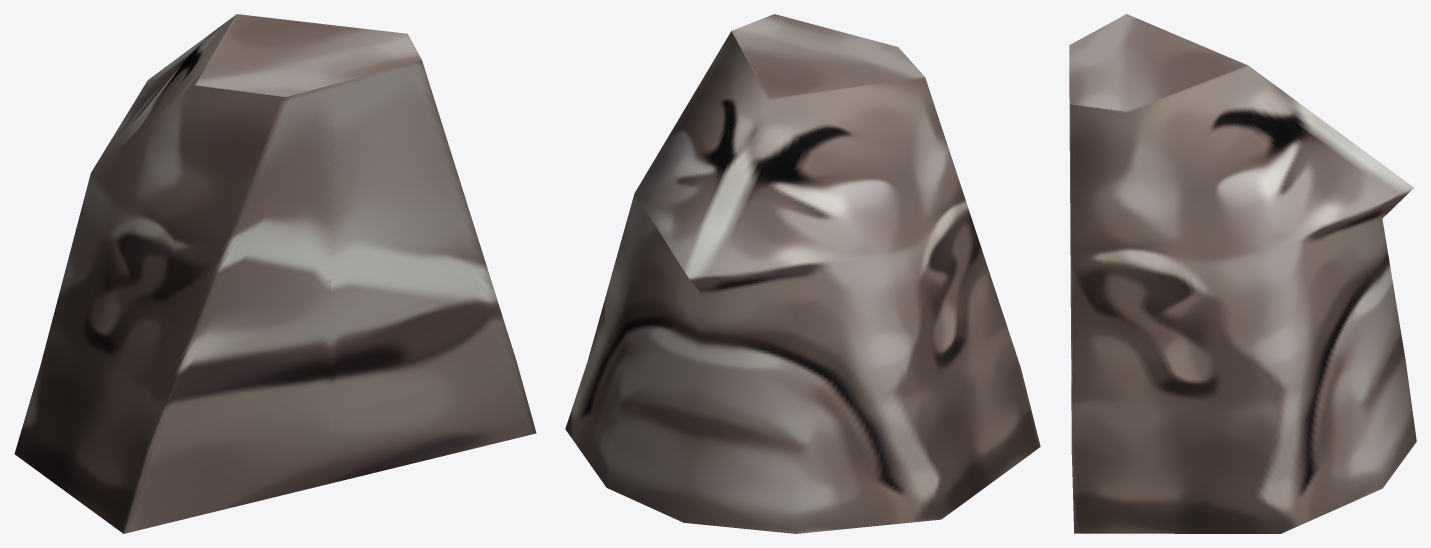
File: headhoncho.glb
3 renders of one model, left to right at view 1: azimuth 30°, elevation 25°; view 2: azimuth 150°, elevation 25°; view 3: azimuth 270°, elevation 25°, orthographic. The views are drawn at different scales.
Visible parts, largest first — view 1: honcho; view 2: honcho; view 3: honcho.
Boxes of the visible parts, left/top/right/bottom form: honcho: left=14, top=14, right=536, bottom=533; honcho: left=565, top=14, right=1040, bottom=533; honcho: left=1069, top=14, right=1416, bottom=533.
Size of the model in its own units: 1.12 by 1.04 by 0.8708.
Materials: 1 (1 with a texture image).
